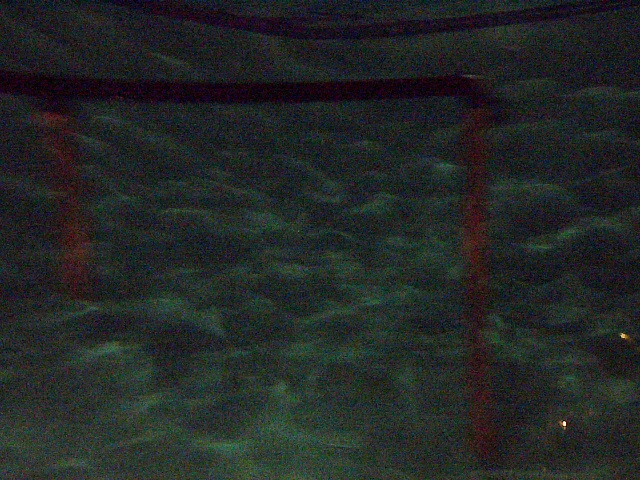Gate: (460, 101, 495, 480), (30, 104, 93, 289)
